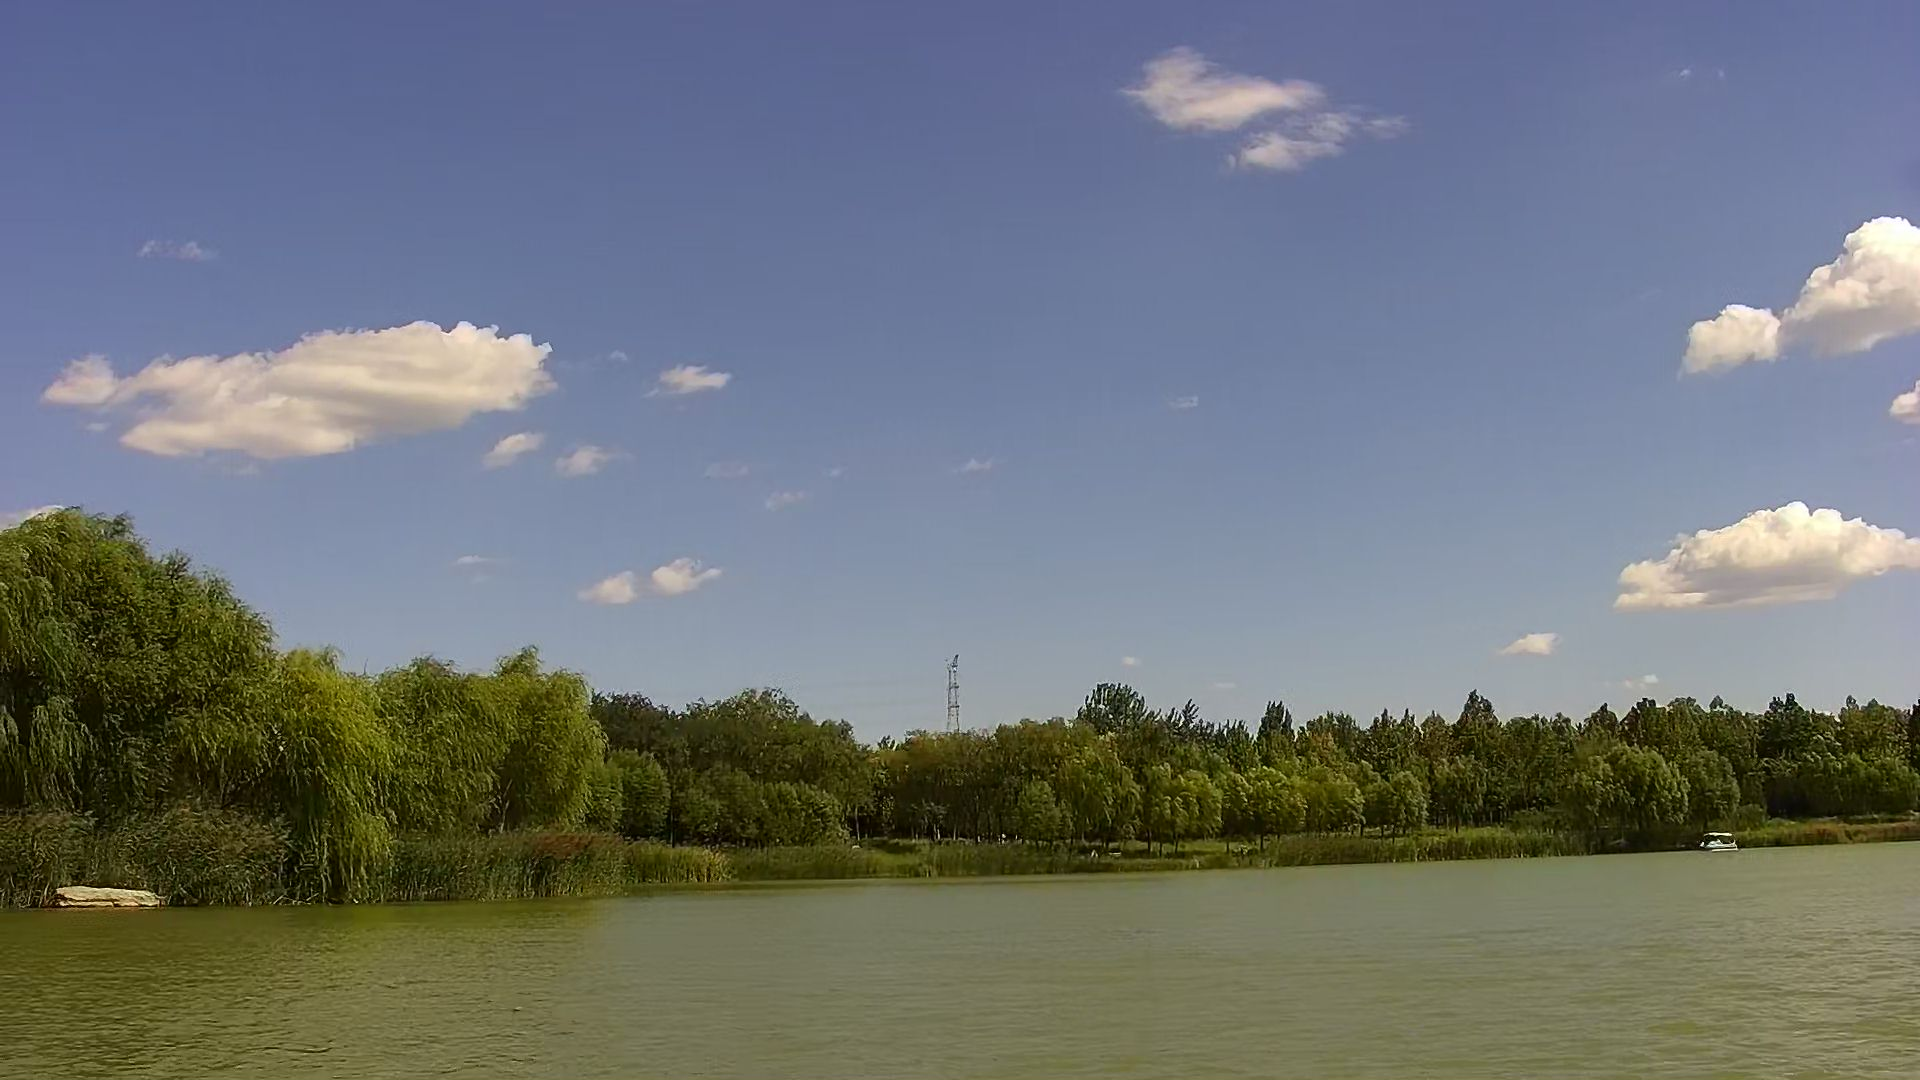boat: (1701, 829, 1743, 851)
